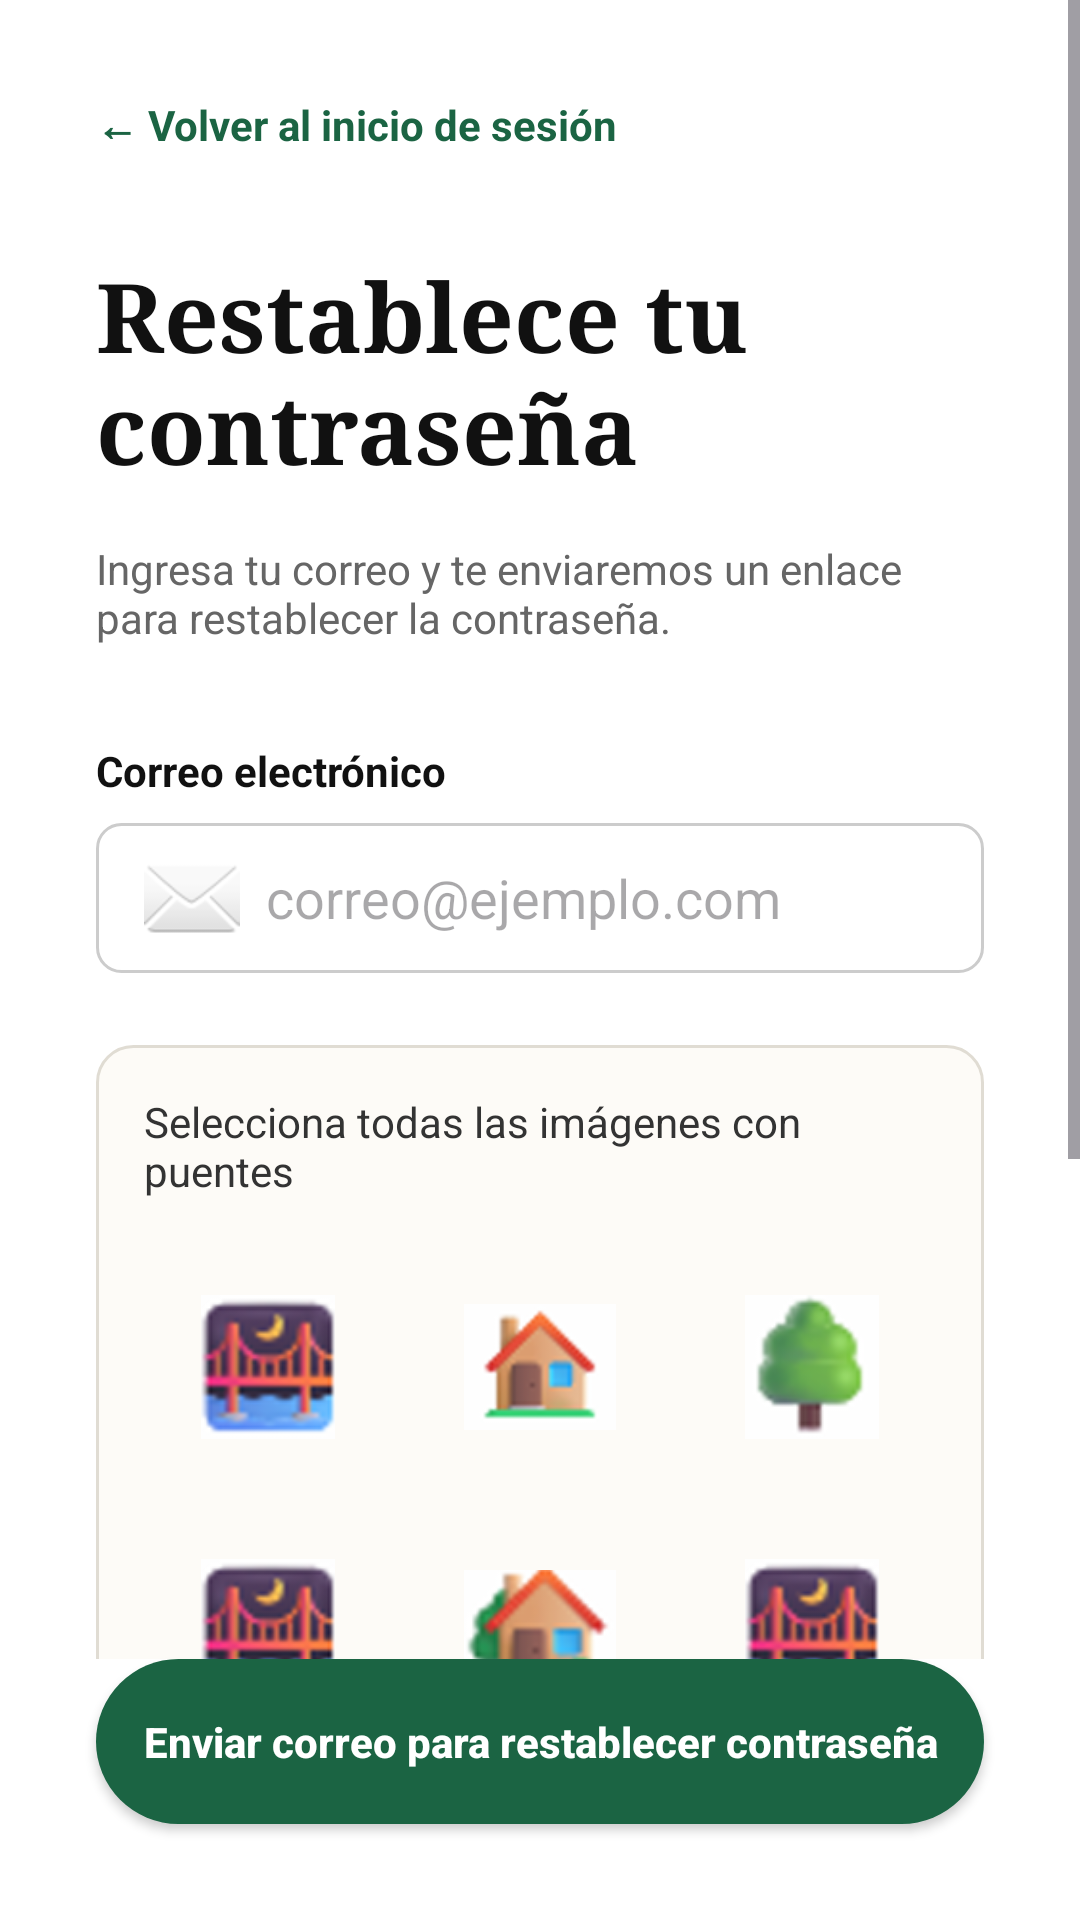

Screen size 1080px x 1920px. Icon name, then its box in pixels as box(x1, y1, x2, y2):
arbol: box(757, 1298, 863, 1432)
